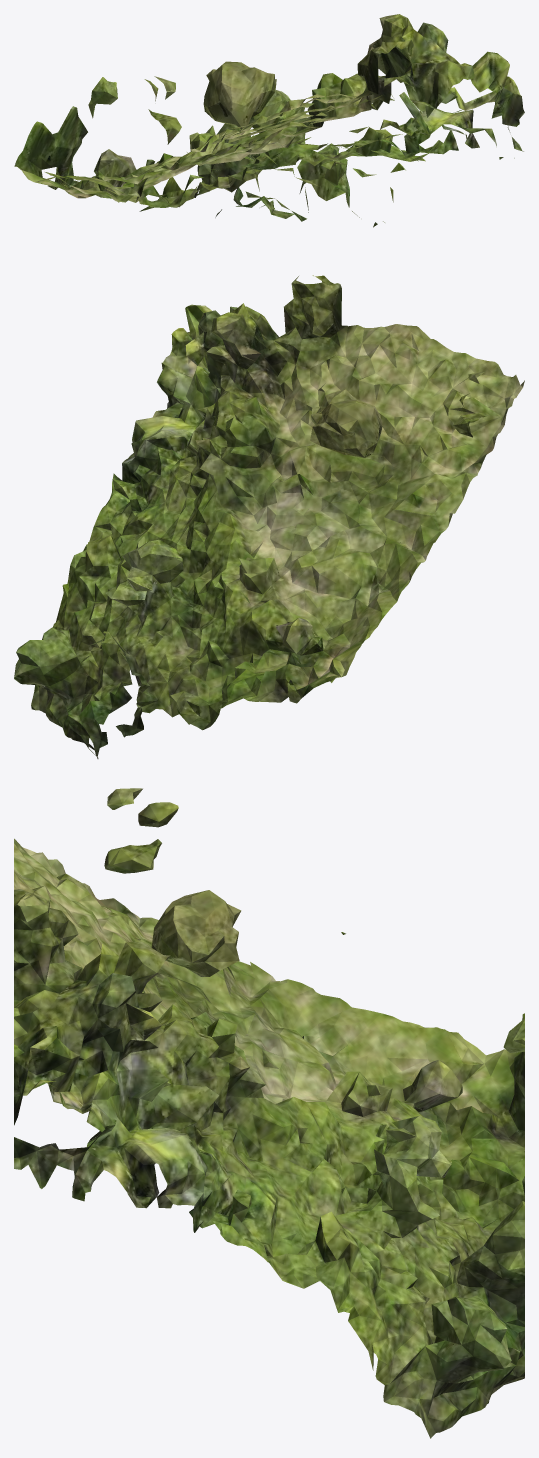
The picture shows the model from 3 angles, top to bottom: view 1: azimuth 30°, elevation 25°; view 2: azimuth 150°, elevation 25°; view 3: azimuth 270°, elevation 25°; orthographic projection. The views are drawn at different scales.
Bounding box in the file's own units: 26.11 × 26.11 × 26.11.
Materials: 5 (5 with a texture image).
